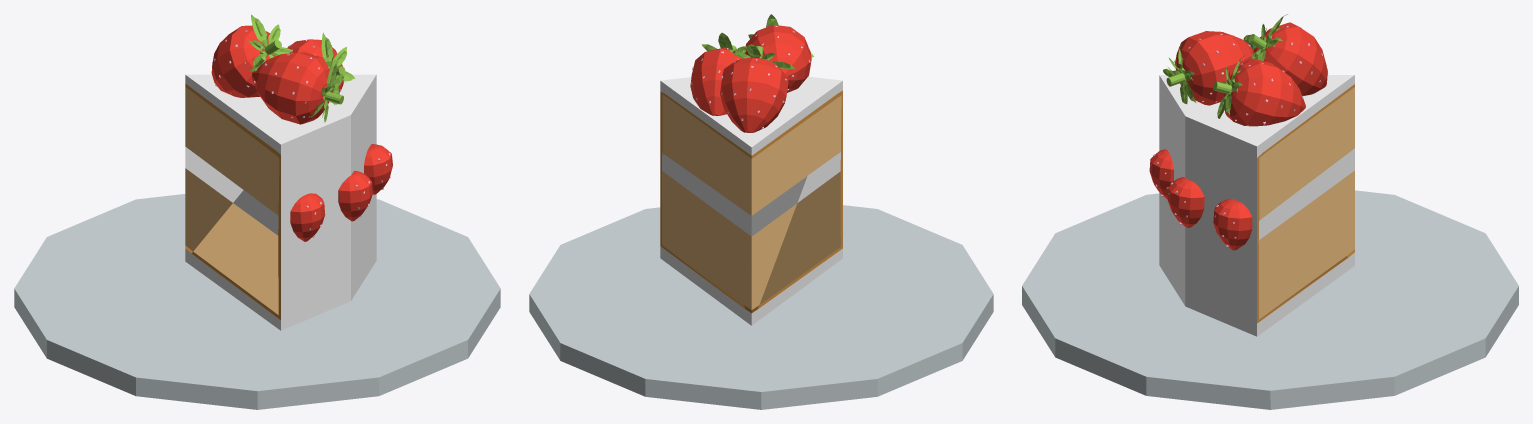
The model's file is cake.glb.
3 views of the same model, side by side, from view 1: azimuth 30°, elevation 25°; view 2: azimuth 150°, elevation 25°; view 3: azimuth 270°, elevation 25° (orthographic). The views are drawn at different scales.
Parts seen in each view (by area): view 1: Node; view 2: Node; view 3: Node.
Boxes of the visible parts, box(x1,y1,x2,y2) form: Node: box(14, 14, 500, 409); Node: box(529, 14, 993, 409); Node: box(1022, 14, 1518, 409).
Bounding box in the file's own units: 0.94 × 0.6099 × 0.94.
